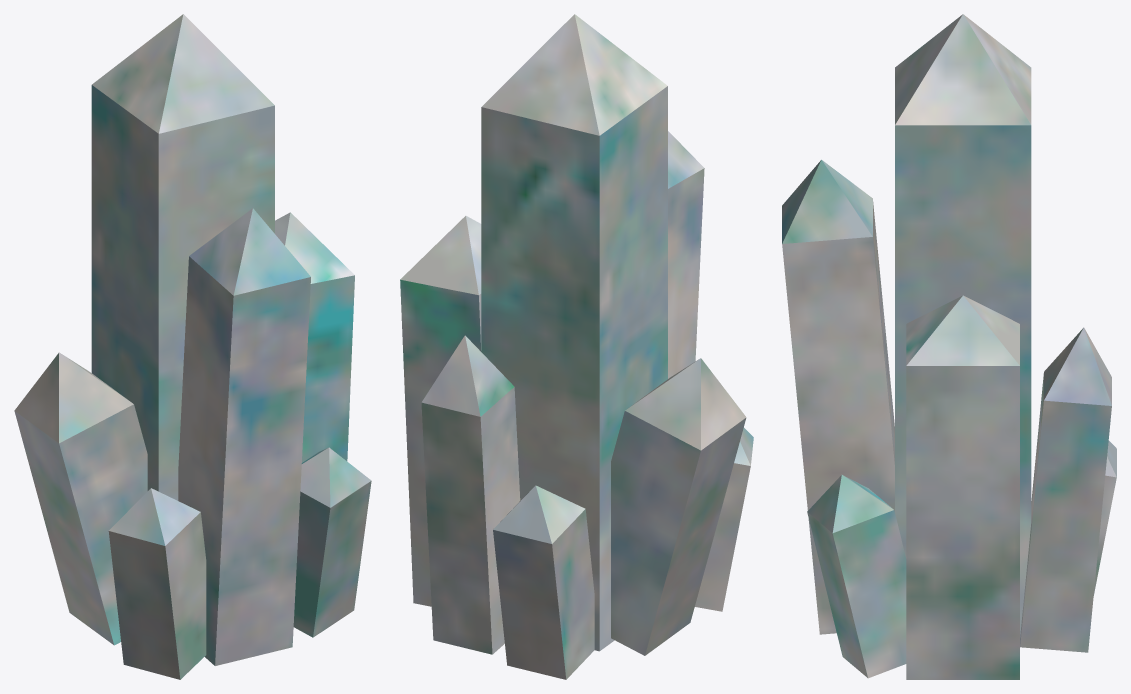
File: celestial_prism.obj
The picture shows the model from 3 angles, left to right: view 1: azimuth 30°, elevation 25°; view 2: azimuth 150°, elevation 25°; view 3: azimuth 270°, elevation 25°; orthographic projection.
Parts seen in each view (by area): view 1: cube, pyramid; view 2: pyramid, cube; view 3: pyramid, cube.
Part boxes in pixels (x1,y1,x2,y2): cube: (14,208,354,665); pyramid: (91,14,371,679); pyramid: (421,14,753,679); cube: (400,131,746,655); pyramid: (807,14,1116,678); cube: (782,159,1019,679).
Bounding box in the file's own units: 0.9363 × 1.84 × 0.9189.
